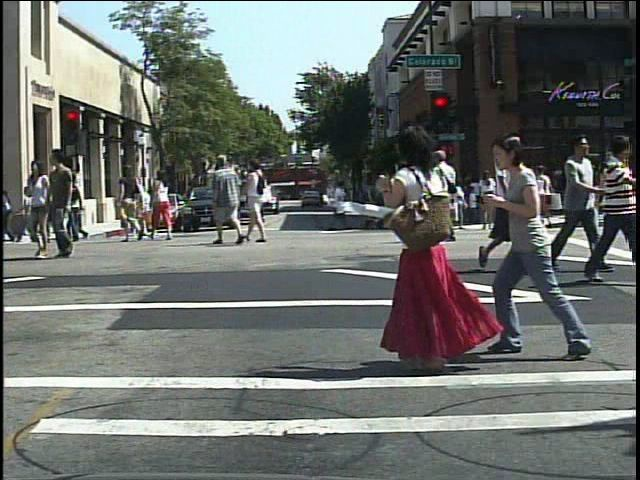person: (375, 123, 479, 378), (485, 120, 593, 365), (468, 128, 536, 279), (552, 131, 617, 284), (591, 127, 637, 284), (45, 146, 87, 262), (428, 143, 474, 248), (207, 149, 247, 247), (21, 159, 59, 261), (245, 154, 274, 246), (117, 164, 146, 242), (29, 168, 55, 246), (62, 169, 87, 247), (149, 167, 175, 242), (478, 165, 504, 234), (422, 163, 447, 232)
